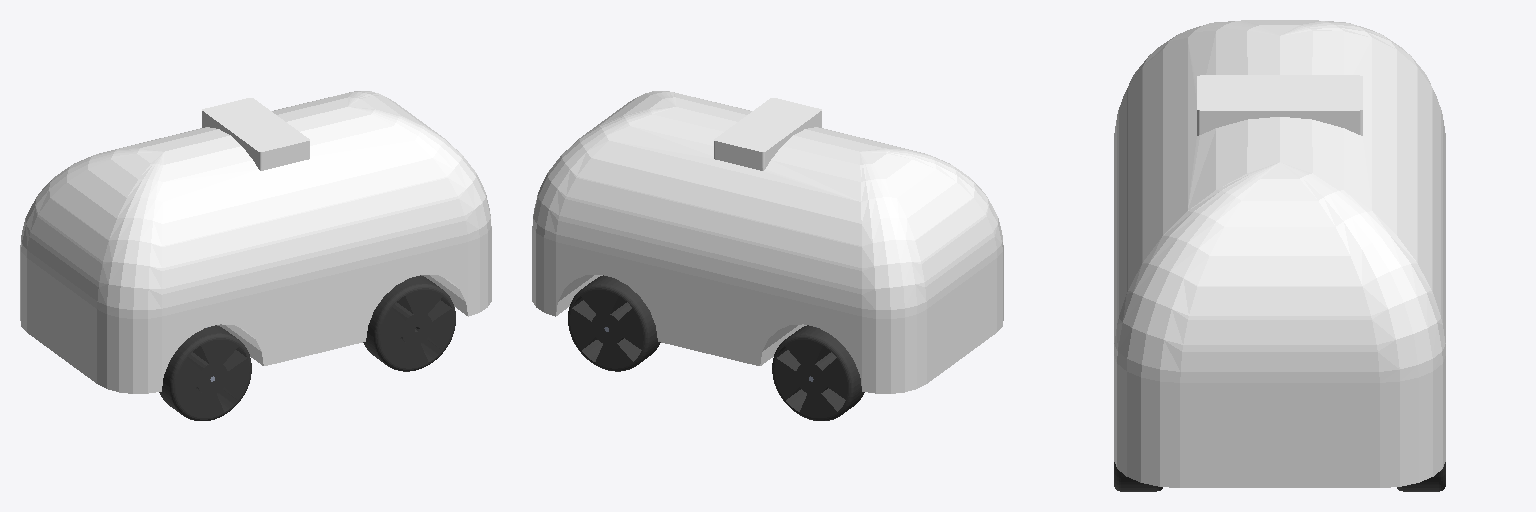
robot.urdf — delivery_car:
<?xml version="1.0" encoding="utf-8"?>
<!-- =================================================================================== -->
<!-- |    This document was autogenerated by xacro from my_robot_integration.urdf.xacro | -->
<!-- |    EDITING THIS FILE BY HAND IS NOT RECOMMENDED                                 | -->
<!-- =================================================================================== -->
<!-- Name your robot here -->
<robot name="delivery_car">
  <link name="dummy_link">
    <pose>0 0 0 0 0 0 </pose>
  </link>
  <joint name="dummy_joint" type="fixed">
    <parent link="dummy_link"/>
    <child link="base_link"/>
  </joint>
  <link name="base_link">
    <inertial>
      <origin rpy="0 0 0" xyz="-0.000908154363345622 -6.56623908190518E-10 0.293045389307219"/>
      <mass value="72.3574570918659"/>
      <inertia ixx="2.70857432269713" ixy="9.07816692403917E-08" ixz="-0.00713957051532295" iyy="6.90075895867942" iyz="-1.12917933798358E-09" izz="7.72228876783316"/>
    </inertial>
    <visual>
      <origin rpy="0 0 0" xyz="0 0 0"/>
      <geometry>
        <mesh filename="package://delivery_car/meshes/base_link.STL"/>
      </geometry>
      <material name="">
        <color rgba="1 1 1 1"/>
      </material>
    </visual>
    <collision>
      <origin rpy="0 0 0" xyz="0 0 0"/>
      <geometry>
        <mesh filename="package://delivery_car/meshes/base_link.STL"/>
      </geometry>
    </collision>
  </link>
  <link name="right_front_lmount">
    <inertial>
      <origin rpy="0 0 0" xyz="0 0.0300195937636138 -0.109244446855341"/>
      <mass value="0.0482027103305475"/>
      <inertia ixx="0.000190477781556076" ixy="-1.68743442594918E-20" ixz="-1.95935218617135E-20" iyy="0.000152318699141993" iyz="8.88301056256031E-06" izz="3.93305161229015E-05"/>
    </inertial>
    <visual>
      <origin rpy="0 0 0" xyz="0 0 0"/>
      <geometry>
        <mesh filename="package://delivery_car/meshes/right_front_lmount.STL"/>
      </geometry>
      <material name="">
        <color rgba="0.666666666666667 0.698039215686274 0.768627450980392 1"/>
      </material>
    </visual>
    <collision>
      <origin rpy="0 0 0" xyz="0 0 0"/>
      <geometry>
        <mesh filename="package://delivery_car/meshes/right_front_lmount.STL"/>
      </geometry>
    </collision>
  </link>
  <joint name="right_front_turn_joint" type="continuous">
    <origin rpy="0 0 0" xyz="0.254 -0.2159 0.2794"/>
    <parent link="base_link"/>
    <child link="right_front_lmount"/>
    <axis xyz="0 0 -1"/>
  </joint>
  <link name="right_front_wheel">
    <inertial>
      <origin rpy="0 0 0" xyz="-9.99200722162641E-16 -5.89218730291041E-16 -0.0380999999999998"/>
      <mass value="1.91896102163701"/>
      <inertia ixx="0.00592697643071667" ixy="6.03510974918702E-18" ixz="1.08485252691956E-17" iyy="0.00592697643071669" iyz="3.5499627630916E-17" izz="0.0100412541412463"/>
    </inertial>
    <visual>
      <origin rpy="0 0 0" xyz="0 0 0"/>
      <geometry>
        <mesh filename="package://delivery_car/meshes/right_front_wheel.STL"/>
      </geometry>
      <material name="">
        <color rgba="0.298039215686275 0.298039215686275 0.298039215686275 1"/>
      </material>
    </visual>
    <collision>
      <origin rpy="0 0 0" xyz="0 0 0"/>
      <geometry>
        <mesh filename="package://delivery_car/meshes/right_front_wheel.STL"/>
      </geometry>
    </collision>
  </link>
  <joint name="right_front_wheel_joint" type="continuous">
    <origin rpy="1.5707963267949 0 0" xyz="0 -0.0381000000000009 -0.1778"/>
    <parent link="right_front_lmount"/>
    <child link="right_front_wheel"/>
    <axis xyz="0 0 -1"/>
  </joint>
  <link name="left_front_lmount">
    <inertial>
      <origin rpy="0 0 0" xyz="0 -0.0300195937636138 -0.109244446855341"/>
      <mass value="0.0482027103305475"/>
      <inertia ixx="0.000190477781556076" ixy="9.16464545695675E-21" ixz="7.34420579718887E-21" iyy="0.000152318699141993" iyz="-8.8830105625603E-06" izz="3.93305161229015E-05"/>
    </inertial>
    <visual>
      <origin rpy="0 0 0" xyz="0 0 0"/>
      <geometry>
        <mesh filename="package://delivery_car/meshes/left_front_lmount.STL"/>
      </geometry>
      <material name="">
        <color rgba="0.666666666666667 0.698039215686274 0.768627450980392 1"/>
      </material>
    </visual>
    <collision>
      <origin rpy="0 0 0" xyz="0 0 0"/>
      <geometry>
        <mesh filename="package://delivery_car/meshes/left_front_lmount.STL"/>
      </geometry>
    </collision>
  </link>
  <joint name="left_front_turn_joint" type="continuous">
    <origin rpy="0 0 0" xyz="0.254 0.2159 0.2794"/>
    <parent link="base_link"/>
    <child link="left_front_lmount"/>
    <axis xyz="0 0 -1"/>
  </joint>
  <link name="left_front_wheel">
    <inertial>
      <origin rpy="0 0 0" xyz="2.55351295663786E-15 7.09428925892797E-16 -0.0381000000000029"/>
      <mass value="1.91896102163701"/>
      <inertia ixx="0.00592697643071667" ixy="-6.03510974918702E-18" ixz="-1.08520018619747E-17" iyy="0.00592697643071669" iyz="3.55032540074801E-17" izz="0.0100412541412463"/>
    </inertial>
    <visual>
      <origin rpy="0 0 0" xyz="0 0 0"/>
      <geometry>
        <mesh filename="package://delivery_car/meshes/left_front_wheel.STL"/>
      </geometry>
      <material name="">
        <color rgba="0.298039215686275 0.298039215686275 0.298039215686275 1"/>
      </material>
    </visual>
    <collision>
      <origin rpy="0 0 0" xyz="0 0 0"/>
      <geometry>
        <mesh filename="package://delivery_car/meshes/left_front_wheel.STL"/>
      </geometry>
    </collision>
  </link>
  <joint name="left_front_wheel_joint" type="continuous">
    <origin rpy="-1.5707963267949 0 0" xyz="0 0.0381 -0.1778"/>
    <parent link="left_front_lmount"/>
    <child link="left_front_wheel"/>
    <axis xyz="0 0 1"/>
  </joint>
  <link name="right_rear_lmount">
    <inertial>
      <origin rpy="0 0 0" xyz="0 0.0300195937636138 -0.109244446855341"/>
      <mass value="0.0482027103305474"/>
      <inertia ixx="0.000190477781556076" ixy="3.67941101261918E-21" ixz="-1.03250959627839E-20" iyy="0.000152318699141993" iyz="8.8830105625603E-06" izz="3.93305161229015E-05"/>
    </inertial>
    <visual>
      <origin rpy="0 0 0" xyz="0 0 0"/>
      <geometry>
        <mesh filename="package://delivery_car/meshes/right_rear_lmount.STL"/>
      </geometry>
      <material name="">
        <color rgba="0.666666666666667 0.698039215686274 0.768627450980392 1"/>
      </material>
    </visual>
    <collision>
      <origin rpy="0 0 0" xyz="0 0 0"/>
      <geometry>
        <mesh filename="package://delivery_car/meshes/right_rear_lmount.STL"/>
      </geometry>
    </collision>
  </link>
  <joint name="right_rear_turn_joint" type="fixed">
    <origin rpy="0 0 0" xyz="-0.254 -0.2159 0.2794"/>
    <parent link="base_link"/>
    <child link="right_rear_lmount"/>
    <axis xyz="0 0 0"/>
  </joint>
  <link name="right_rear_wheel">
    <inertial>
      <origin rpy="0 0 0" xyz="-5.55111512312578E-17 -5.54090920996416E-16 -0.0380999999999997"/>
      <mass value="1.91896102163701"/>
      <inertia ixx="0.00592697643071667" ixy="5.92923063078023E-18" ixz="1.08314104781147E-17" iyy="0.00592697643071669" iyz="3.55269520084078E-17" izz="0.0100412541412463"/>
    </inertial>
    <visual>
      <origin rpy="0 0 0" xyz="0 0 0"/>
      <geometry>
        <mesh filename="package://delivery_car/meshes/right_rear_wheel.STL"/>
      </geometry>
      <material name="">
        <color rgba="0.298039215686275 0.298039215686275 0.298039215686275 1"/>
      </material>
    </visual>
    <collision>
      <origin rpy="0 0 0" xyz="0 0 0"/>
      <geometry>
        <mesh filename="package://delivery_car/meshes/right_rear_wheel.STL"/>
      </geometry>
    </collision>
  </link>
  <joint name="right_rear_wheel_joint" type="continuous">
    <origin rpy="1.5707963267949 0 0" xyz="0 -0.0380999999999991 -0.1778"/>
    <parent link="right_rear_lmount"/>
    <child link="right_rear_wheel"/>
    <axis xyz="0 0 1"/>
  </joint>
  <link name="left_rear_lmount">
    <inertial>
      <origin rpy="0 0 0" xyz="0 -0.0300195937636138 -0.109244446855341"/>
      <mass value="0.0482027103305474"/>
      <inertia ixx="0.000190477781556075" ixy="-9.83478221577053E-21" ixz="1.27384349973246E-20" iyy="0.000152318699141993" iyz="-8.88301056256029E-06" izz="3.93305161229015E-05"/>
    </inertial>
    <visual>
      <origin rpy="0 0 0" xyz="0 0 0"/>
      <geometry>
        <mesh filename="package://delivery_car/meshes/left_rear_lmount.STL"/>
      </geometry>
      <material name="">
        <color rgba="0.666666666666667 0.698039215686274 0.768627450980392 1"/>
      </material>
    </visual>
    <collision>
      <origin rpy="0 0 0" xyz="0 0 0"/>
      <geometry>
        <mesh filename="package://delivery_car/meshes/left_rear_lmount.STL"/>
      </geometry>
    </collision>
  </link>
  <joint name="left_rear_turn_joint" type="fixed">
    <origin rpy="0 0 0" xyz="-0.254 0.2159 0.2794"/>
    <parent link="base_link"/>
    <child link="left_rear_lmount"/>
    <axis xyz="0 0 0"/>
  </joint>
  <link name="left_rear_wheel">
    <inertial>
      <origin rpy="0 0 0" xyz="-1.11022302462516E-16 5.59504140230176E-16 -0.0380999999999976"/>
      <mass value="1.91896102163701"/>
      <inertia ixx="0.00592697643071667" ixy="-5.79522737154664E-18" ixz="-1.09550633570143E-17" iyy="0.00592697643071669" iyz="3.549478657157E-17" izz="0.0100412541412463"/>
    </inertial>
    <visual>
      <origin rpy="0 0 0" xyz="0 0 0"/>
      <geometry>
        <mesh filename="package://delivery_car/meshes/left_rear_wheel.STL"/>
      </geometry>
      <material name="">
        <color rgba="0.298039215686275 0.298039215686275 0.298039215686275 1"/>
      </material>
    </visual>
    <collision>
      <origin rpy="0 0 0" xyz="0 0 0"/>
      <geometry>
        <mesh filename="package://delivery_car/meshes/left_rear_wheel.STL"/>
      </geometry>
    </collision>
  </link>
  <joint name="left_rear_wheel_joint" type="continuous">
    <origin rpy="-1.5707963267949 0 0" xyz="0 0.0381 -0.1778"/>
    <parent link="left_rear_lmount"/>
    <child link="left_rear_wheel"/>
    <axis xyz="0 0 -1"/>
  </joint>
  <transmission name="right_rear_wheel_trans">
    <type>transmission_interface/SimpleTransmission</type>
    <joint name="right_rear_wheel_joint">
      <hardwareInterface>hardware_interface/VelocityJointInterface</hardwareInterface>
    </joint>
    <actuator name="right_rear_wheel_motor">
      <hardwareInterface>hardware_interface/VelocityJointInterface</hardwareInterface>
      <mechanicalReduction>1</mechanicalReduction>
    </actuator>
  </transmission>
  <transmission name="left_rear_wheel_trans">
    <type>transmission_interface/SimpleTransmission</type>
    <joint name="left_rear_wheel_joint">
      <hardwareInterface>hardware_interface/VelocityJointInterface</hardwareInterface>
    </joint>
    <actuator name="left_rear_wheel_motor">
      <hardwareInterface>hardware_interface/VelocityJointInterface</hardwareInterface>
      <mechanicalReduction>1</mechanicalReduction>
    </actuator>
  </transmission>
  <transmission name="right_front_turn_trans">
    <type>transmission_interface/SimpleTransmission</type>
    <joint name="right_front_turn_joint">
      <hardwareInterface>hardware_interface/EffortJointInterface</hardwareInterface>
    </joint>
    <actuator name="right_front_turn_motor">
      <hardwareInterface>hardware_interface/EffortJointInterface</hardwareInterface>
      <mechanicalReduction>1</mechanicalReduction>
    </actuator>
  </transmission>
  <transmission name="left_front_turn_trans">
    <type>transmission_interface/SimpleTransmission</type>
    <joint name="left_front_turn_joint">
      <hardwareInterface>hardware_interface/EffortJointInterface</hardwareInterface>
    </joint>
    <actuator name="left_front_turn_motor">
      <hardwareInterface>hardware_interface/EffortJointInterface</hardwareInterface>
      <mechanicalReduction>1</mechanicalReduction>
    </actuator>
  </transmission>
  <link name="base_laser">
    <inertial>
      <origin rpy="0 0 0" xyz="-0.00029774 0.0066667 0.00013047"/>
      <mass value="0.15717"/>
      <inertia ixx="6.7885E-05" ixy="-1.3987E-07" ixz="-8.1554E-07" iyy="0.00013173" iyz="-9.0932E-08" izz="7.1972E-05"/>
    </inertial>
    <visual>
      <origin rpy="0 0 0" xyz="0 0 0"/>
      <geometry>
        <mesh filename="package://ydlidar_ros/meshes/ydlidar.dae"/>
      </geometry>
      <material name="">
        <color rgba="0.64706 0.61961 0.58824 1"/>
      </material>
    </visual>
    <collision>
      <origin rpy="0 0 0" xyz="0 0 0"/>
      <geometry>
        <mesh filename="package://ydlidar_ros/meshes/ydlidar.dae"/>
      </geometry>
    </collision>
  </link>
  <link name="laser_frame">
    <inertial>
      <origin rpy="0 0 0" xyz="-0.00036659 0.00064155 -0.00027052"/>
      <mass value="0.25482"/>
      <inertia ixx="8.9194E-05" ixy="1.8116E-07" ixz="3.6435E-08" iyy="0.00018279" iyz="2.423E-07" izz="0.00011103"/>
    </inertial>
    <!--visual>
      <origin
        xyz="0 0 0"
        rpy="0 0 0" />
      <geometry>
        <mesh
          filename="package://ydlidar_ros/meshes/ydlidar.dae" />
      </geometry>
      <material
        name="">
        <color
          rgba="0.64706 0.61961 0.58824 1" />
      </material>
    </visual-->
    <!--collision>
      <origin
        xyz="0 0 0"
        rpy="0 0 0" />
      <geometry>
        <mesh
          filename="package://ydlidar_ros/meshes/ydlidar.dae" />
      </geometry>
    </collision-->
  </link>
  <joint name="laser_joint" type="fixed">
    <origin rpy="0 0 0" xyz="0 0 0.03172"/>
    <parent link="base_laser"/>
    <child link="laser_frame"/>
    <axis xyz="0 0 0"/>
  </joint>
  <!-- Add your gazebo sensors here -->
  <gazebo reference="base_laser">
    <!-- <gravity>true</gravity> -->
    <!-- Gazebo has fixed set of Sensors types. Check them out here <> -->
    <sensor name="laser" type="ray">
      <!-- Add in your sensor characteristics -->
      <pose> 0 0 0 0 0 0 </pose>
      <visualise>true</visualise>
      <update_rate>40</update_rate>
      <always_on>true</always_on>
      <ray>
        <scan>
          <horizontal>
            <samples>720</samples>
            <resolution>1</resolution>
            <min_angle>-1.570796</min_angle>
            <max_angle>1.570796</max_angle>
          </horizontal>
        </scan>
        <range>
          <min>0.10</min>
          <max>30.0</max>
          <resolution>0.01</resolution>
        </range>
        <noise>
          <type>gaussian</type>
          <mean>0.0</mean>
          <stddev>0.01</stddev>
        </noise>
      </ray>
      <plugin filename="libgazebo_ros_laser.so" name="gazebo_ros_head_hokuyo_controller">
        <!-- Use topic name as /my_robot/scan -->
        <topicName>/delivery_car/scan</topicName>
        <frameName>laser_frame</frameName>
      </plugin>
    </sensor>
  </gazebo>
  <!--  Gazebo plugin for control here is already added for you -->
  <gazebo>
    <plugin filename="libgazebo_ros_control.so" name="gazebo_ros_control">
      <robotNamespace>/delivery_car</robotNamespace>
      <robotSimType>gazebo_ros_control/DefaultRobotHWSim</robotSimType>
      <legacyModeNS>true</legacyModeNS>
    </plugin>
  </gazebo>
  <!-- Create a joint between your robot and sensor -->
  <joint name="lirobo_joint" type="fixed">
    <axis xyz="0 0 1"/>
    <origin rpy="0 0 0" xyz="0 0 0.534"/>
    <parent link="base_link"/>
    <child link="base_laser"/>
  </joint>
</robot>

--- Render facts (derived) ---
Views: 3 orthographic renders of the robot side by side, from view 1: azimuth 30°, elevation 25°; view 2: azimuth 150°, elevation 25°; view 3: azimuth 270°, elevation 25°.
Model delivery_car with 12 links and 11 joints (6 continuous, 5 fixed), rooted at dummy_link, posed all joints at 0.
Visible links, largest first — view 1: base_link, right_front_wheel, right_rear_wheel; view 2: base_link, left_front_wheel, left_rear_wheel; view 3: base_link, right_front_wheel, left_front_wheel.
Boxes of the visible links, x1,y1,x2,y2 form: base_link: [20, 91, 491, 393]; right_front_wheel: [363, 275, 455, 371]; right_rear_wheel: [159, 325, 251, 420]; base_link: [532, 91, 1003, 393]; left_front_wheel: [568, 275, 660, 371]; left_rear_wheel: [772, 325, 864, 420]; base_link: [1114, 20, 1445, 487]; right_front_wheel: [1114, 462, 1162, 491]; left_front_wheel: [1397, 462, 1445, 491].
Bounding box of the posed robot: 0.9652 × 0.508 × 0.5434 m (x, y, z).
8 mesh visuals loaded from 10 distinct referenced files (8 binary STL); not drawn: 2 (reference not matched to a file when rendering).
